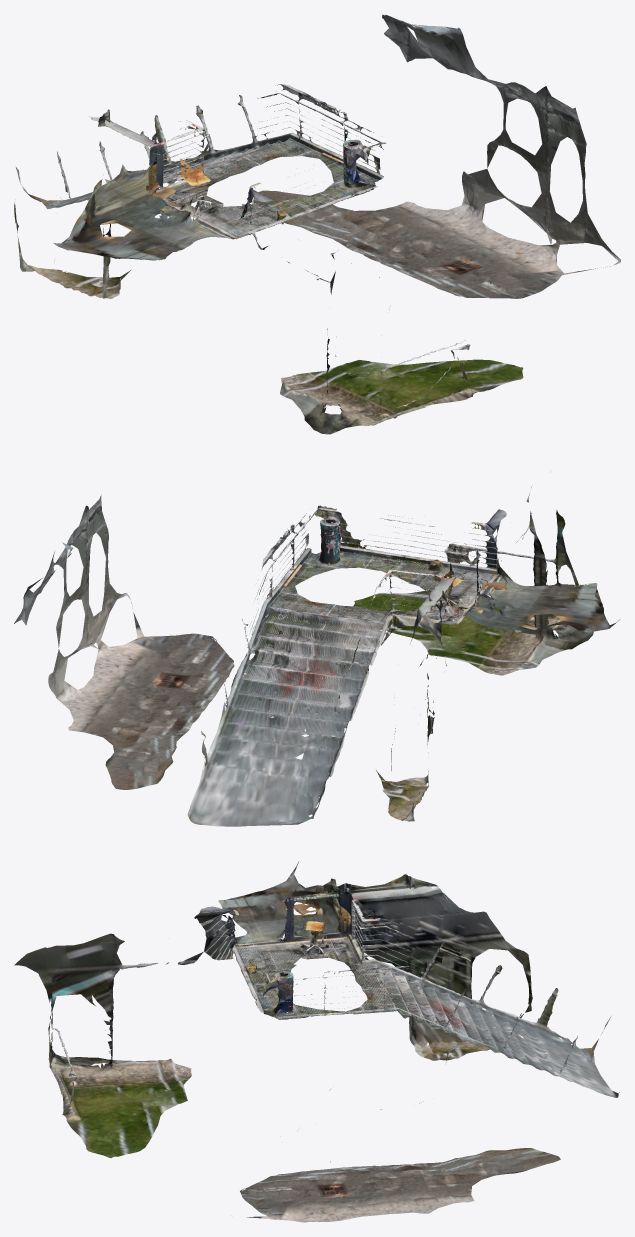
The model's file is treppe.glb.
3 views of the same model, one above another, from view 1: azimuth 30°, elevation 25°; view 2: azimuth 150°, elevation 25°; view 3: azimuth 270°, elevation 25° (orthographic). The views are drawn at different scales.
Visible parts, largest first — view 1: mesh; view 2: mesh; view 3: mesh.
Boxes of the visible parts, x1=… form: mesh: x1=14, y1=14, x2=620, y2=434; mesh: x1=14, y1=487, x2=619, y2=826; mesh: x1=14, y1=861, x2=619, y2=1222.
Size of the model in its own units: 11.41 by 4.05 by 12.31.
1 material, 1 textured.
